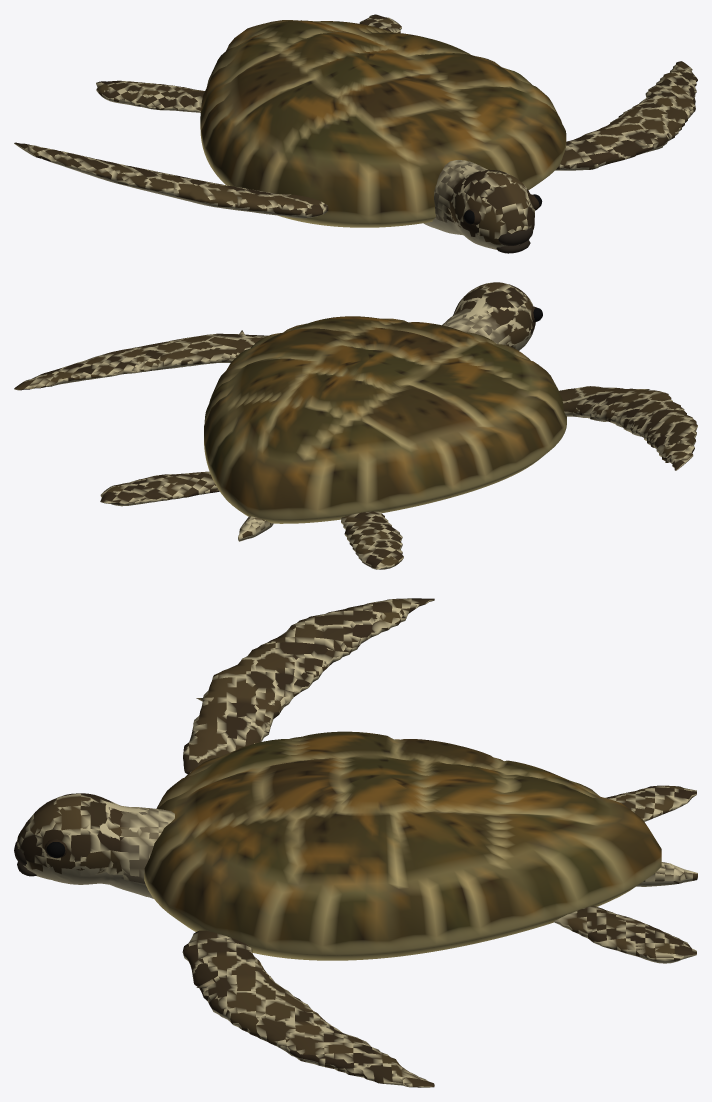
The model's file is GreenSeaTurtle.fbx.
3 views of the same model, one above another, from view 1: azimuth 30°, elevation 25°; view 2: azimuth 150°, elevation 25°; view 3: azimuth 270°, elevation 25° (orthographic). The views are drawn at different scales.
Visible parts, largest first — view 1: GreenSeaTurtle; view 2: GreenSeaTurtle; view 3: GreenSeaTurtle.
Boxes of the visible parts, bbox=[...] form: GreenSeaTurtle: bbox=[14, 14, 697, 253]; GreenSeaTurtle: bbox=[14, 282, 697, 569]; GreenSeaTurtle: bbox=[14, 598, 697, 1087].
Bounding box in the file's own units: 1.88 × 0.286 × 1.39.
